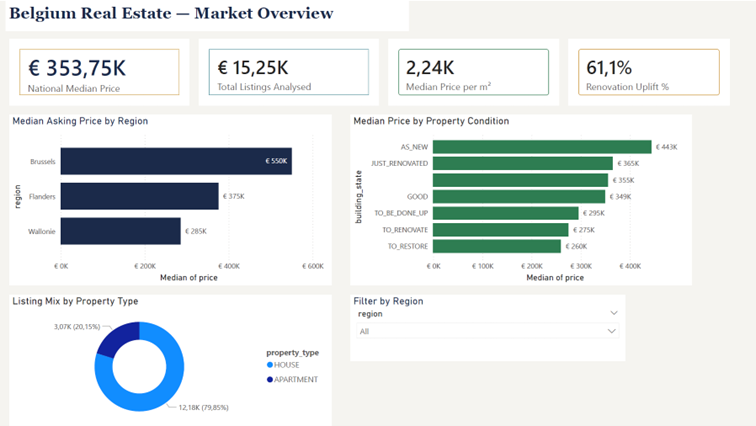

Layout of this report page (visuals, bound fields, positions):
{"tool":"powerbi","page":{"name":"Market Overview Dashboard","canvas":[1280,720],"ordinal":0},"visuals":[{"type":"textbox","box":[10,0,680,50],"z":0},{"type":"cardVisual","fields":{"Data":["Median(belgium_re_powerbi_export.price)"]},"box":[16,64,304,112],"z":1000},{"type":"cardVisual","fields":{"Data":["CountNonNull(belgium_re_powerbi_export.price)"]},"box":[336,64,304,112],"z":2000},{"type":"clusteredBarChart","title":"Median Asking Price by Region","fields":{"Category":["belgium_re_powerbi_export.region"],"Y":["Median(belgium_re_powerbi_export.price)"]},"box":[16,192,544,288],"z":3000},{"type":"donutChart","title":"Listing Mix by Property Type","fields":{"Category":["belgium_re_powerbi_export.property_type"],"Y":["CountNonNull(belgium_re_powerbi_export.price)"]},"box":[16,496,544,224],"z":4000},{"type":"clusteredBarChart","title":"Median Price by Property Condition","fields":{"Category":["belgium_re_powerbi_export.building_state"],"Y":["Median(belgium_re_powerbi_export.price)"]},"box":[592,192,576,288],"z":5000},{"type":"slicer","title":"Filter by Region","fields":{"Values":["belgium_re_powerbi_export.region"]},"box":[592,496,464,112],"z":6000},{"type":"cardVisual","fields":{"Data":["belgium_re_powerbi_export.Median Price per m²"]},"box":[656,64,288,112],"z":7000},{"type":"cardVisual","fields":{"Data":["belgium_re_powerbi_export.Renovation Uplift %"]},"box":[960,64,272,112],"z":8000}]}

Visuals, with their boxes in screenshot pixels (x1, y1, x2, y2), scaled from the page's 1280x720 canvas onto the 756x426 screenshot:
textbox: {"x1": 6, "y1": 0, "x2": 408, "y2": 30}
cardVisual - Median(belgium_re_powerbi_export.price): {"x1": 9, "y1": 38, "x2": 189, "y2": 104}
cardVisual - CountNonNull(belgium_re_powerbi_export.price): {"x1": 198, "y1": 38, "x2": 378, "y2": 104}
"Median Asking Price by Region" clusteredBarChart: {"x1": 9, "y1": 114, "x2": 331, "y2": 284}
"Listing Mix by Property Type" donutChart: {"x1": 9, "y1": 293, "x2": 331, "y2": 425}
"Median Price by Property Condition" clusteredBarChart: {"x1": 350, "y1": 114, "x2": 690, "y2": 284}
"Filter by Region" slicer: {"x1": 350, "y1": 293, "x2": 624, "y2": 360}
cardVisual - belgium_re_powerbi_export.Median Price per m²: {"x1": 387, "y1": 38, "x2": 558, "y2": 104}
cardVisual - belgium_re_powerbi_export.Renovation Uplift %: {"x1": 567, "y1": 38, "x2": 728, "y2": 104}
